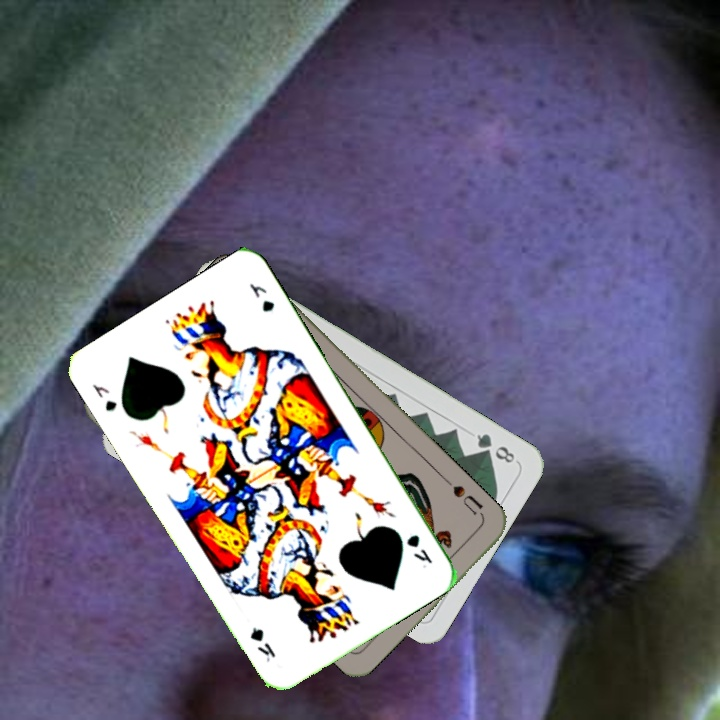G8: (472, 429, 518, 466)
GK: (402, 530, 435, 566), (88, 379, 120, 414)
SU: (448, 481, 487, 522)
